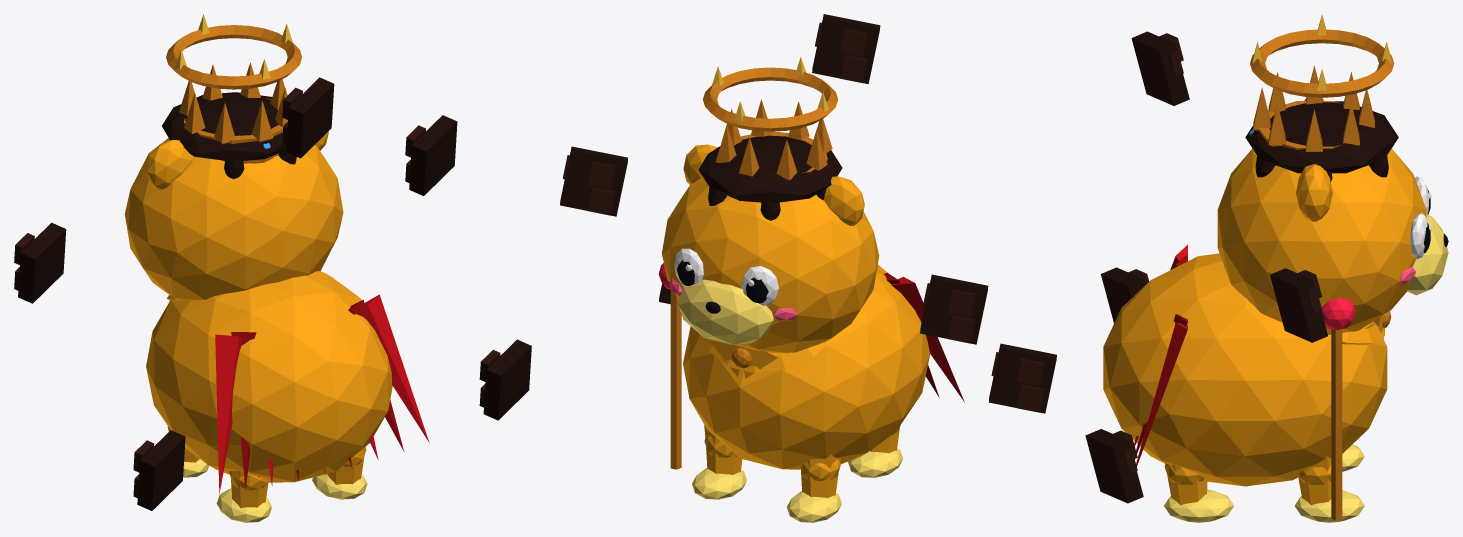
The model's file is golden_king.obj.
3 renders of one model, left to right at view 1: azimuth 30°, elevation 25°; view 2: azimuth 150°, elevation 25°; view 3: azimuth 270°, elevation 25°, orthographic. The views are drawn at different scales.
Visible parts, largest first — view 1: Body_1_m1, Head_2_m3, Head_2_m32, Body_1_m27, Halo_16_m43, Head_2_m22, Float1_11_m33, Float5_15_m41, Float3_13_m37, Float2_12_m35, Float4_14_m39, Leg3Lo_8_m17 (+4 smaller); view 2: Body_1_m1, Head_2_m3, Head_2_m32, Head_2_m4, Halo_16_m43, Head_2_m22, Float1_11_m33, Float4_14_m39, Float3_13_m37, Float2_12_m35, Body_1_m30, Head_2_m6 (+11 smaller); view 3: Body_1_m1, Head_2_m3, Head_2_m32, Halo_16_m43, Head_2_m22, Float3_13_m37, Float2_12_m35, Float5_15_m41, Body_1_m30, Head_2_m4, Leg4Lo_10_m21, Body_1_m27 (+11 smaller).
Boxes of the visible parts, x1,y1,x2,y2 form: Body_1_m1: (146, 270, 392, 482); Head_2_m3: (124, 131, 343, 301); Head_2_m32: (162, 92, 296, 178); Body_1_m27: (215, 294, 429, 493); Halo_16_m43: (166, 25, 302, 89); Head_2_m22: (179, 62, 287, 163); Float1_11_m33: (18, 222, 66, 303); Float5_15_m41: (483, 339, 531, 420); Float3_13_m37: (286, 77, 334, 158); Float2_12_m35: (409, 115, 457, 195); Float4_14_m39: (137, 430, 185, 510); Leg3Lo_8_m17: (229, 471, 268, 507); Body_1_m1: (683, 264, 930, 469); Head_2_m3: (661, 144, 879, 353); Head_2_m32: (698, 135, 842, 220); Head_2_m4: (678, 279, 773, 344); Halo_16_m43: (703, 67, 838, 131); Head_2_m22: (715, 99, 832, 180); Float1_11_m33: (920, 274, 988, 344); Float4_14_m39: (988, 343, 1056, 413); Float3_13_m37: (812, 14, 880, 84); Float2_12_m35: (560, 146, 627, 216); Body_1_m30: (670, 290, 751, 469); Head_2_m6: (674, 248, 779, 305); Body_1_m1: (1103, 253, 1387, 486); Head_2_m3: (1217, 99, 1426, 334); Head_2_m32: (1245, 101, 1398, 181); Halo_16_m43: (1250, 29, 1394, 97); Head_2_m22: (1253, 65, 1374, 165); Float3_13_m37: (1131, 31, 1189, 105); Float2_12_m35: (1270, 268, 1327, 342); Float5_15_m41: (1085, 429, 1143, 503); Body_1_m30: (1331, 311, 1391, 520); Head_2_m4: (1406, 214, 1448, 295); Leg4Lo_10_m21: (1164, 489, 1233, 522); Body_1_m27: (1134, 244, 1187, 466).
Size of the model in its own units: 3.44 by 3.3 by 2.36.
